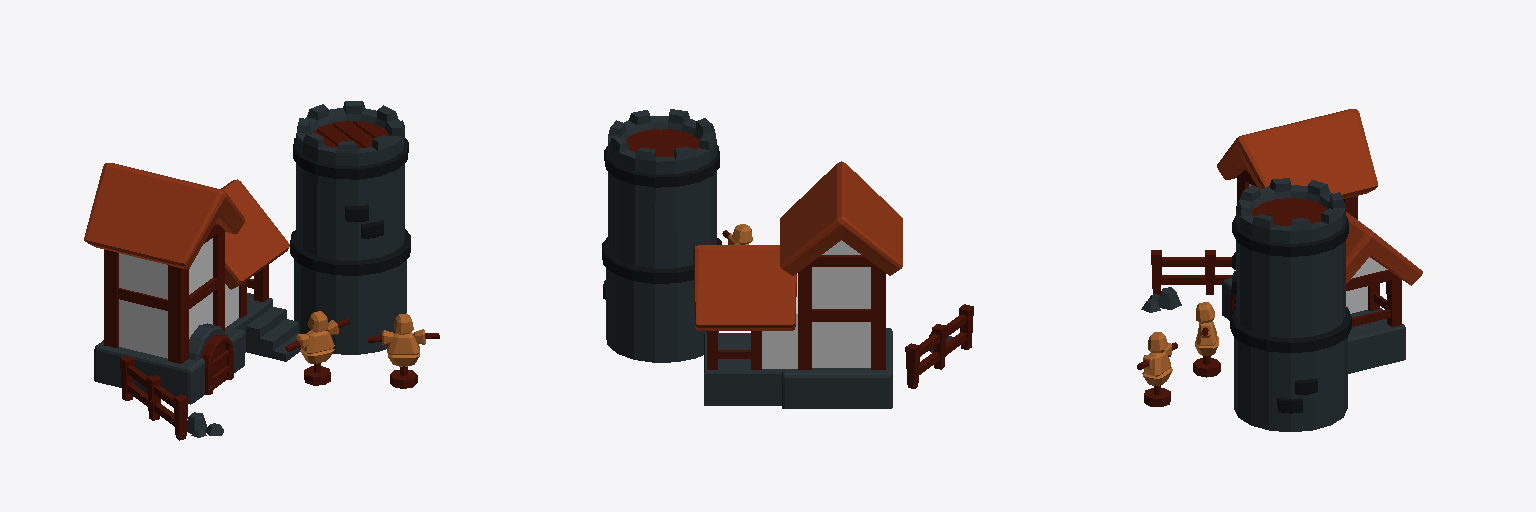
File: barracks.obj
3 views of the same model, side by side, from view 1: azimuth 30°, elevation 25°; view 2: azimuth 150°, elevation 25°; view 3: azimuth 270°, elevation 25° (orthographic).
Visible parts, largest first — view 1: barracks_Cube.405; view 2: barracks_Cube.405; view 3: barracks_Cube.405.
Boxes of the visible parts, x1,y1,x2,y2 form: barracks_Cube.405: [84, 101, 439, 440]; barracks_Cube.405: [602, 109, 973, 408]; barracks_Cube.405: [1137, 109, 1422, 431].
Size of the model in its own units: 1.99 by 1.3 by 1.61.